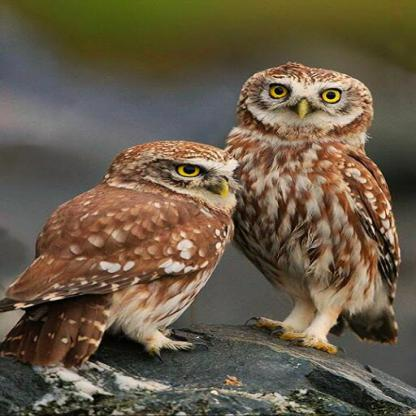owl: (41, 19, 415, 416), (220, 32, 416, 416)
